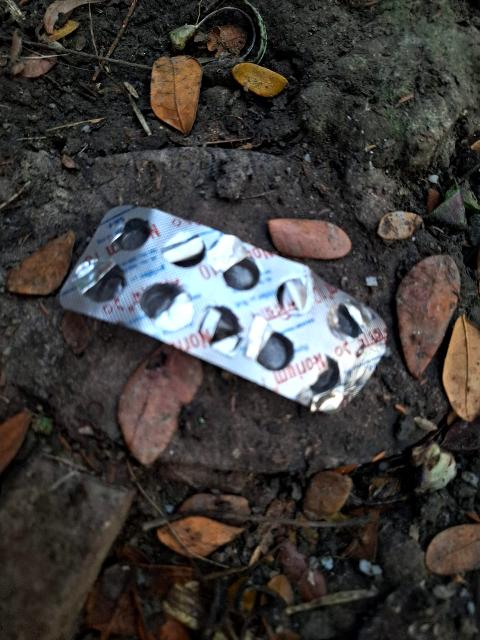medicine: (47, 182, 407, 432)
